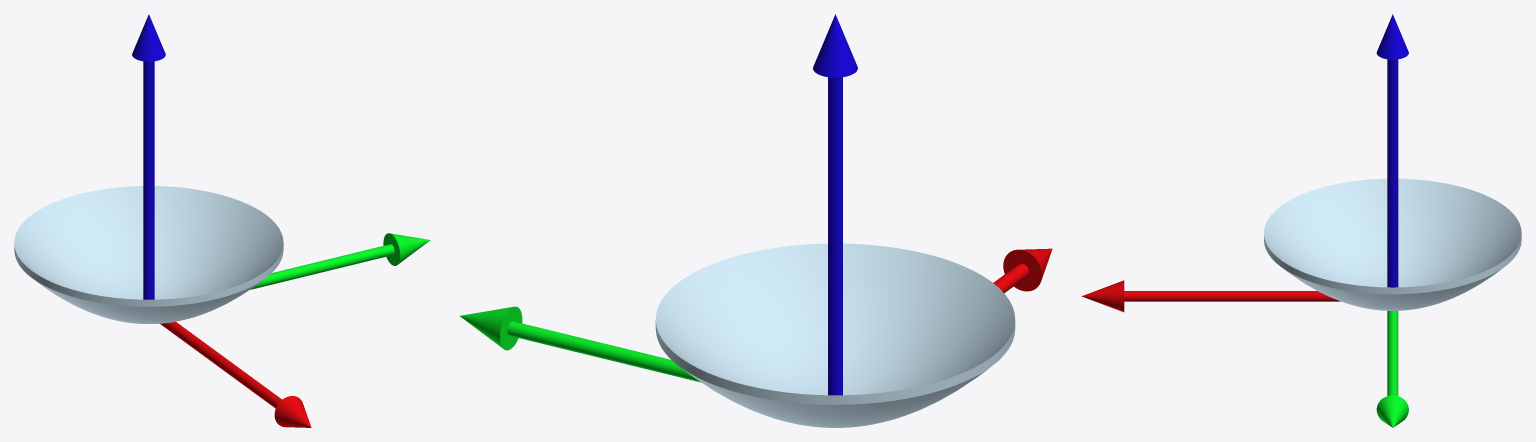
The model's file is parabola_with_axes.glb.
3 views of the same model, side by side, from view 1: azimuth 30°, elevation 25°; view 2: azimuth 150°, elevation 25°; view 3: azimuth 270°, elevation 25° (orthographic). The views are drawn at different scales.
Parts seen in each view (by area): view 1: Parabola, Z Axis.001, X Axis.001, Y Axis.001; view 2: Parabola, Z Axis.001, Y Axis.001, X Axis.001; view 3: Parabola, Z Axis.001, X Axis.001, Y Axis.001.
Boxes of the visible parts, x1,y1,x2,y2 form: Parabola: [14, 186, 283, 323]; Z Axis.001: [132, 14, 165, 299]; X Axis.001: [160, 321, 311, 427]; Y Axis.001: [250, 233, 430, 289]; Parabola: [655, 243, 1015, 427]; Z Axis.001: [813, 14, 857, 395]; Y Axis.001: [460, 306, 700, 382]; X Axis.001: [993, 248, 1052, 293]; Parabola: [1264, 178, 1521, 310]; Z Axis.001: [1376, 14, 1408, 287]; X Axis.001: [1081, 280, 1340, 312]; Y Axis.001: [1376, 311, 1408, 427].
Size of the model in its own units: 0.82 by 0.61 by 0.82.
